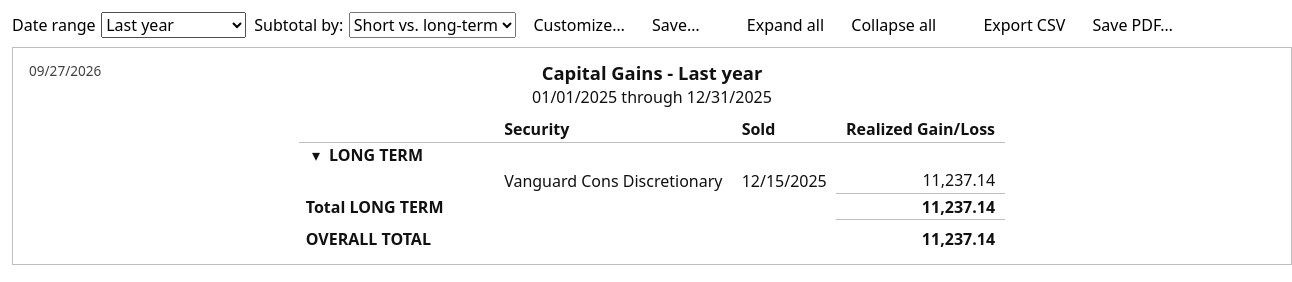
it: Report window › collapses a group to one line with its total
Click the button named "Collapse LONG TERM" at (316, 155), box [306,144,326,166]
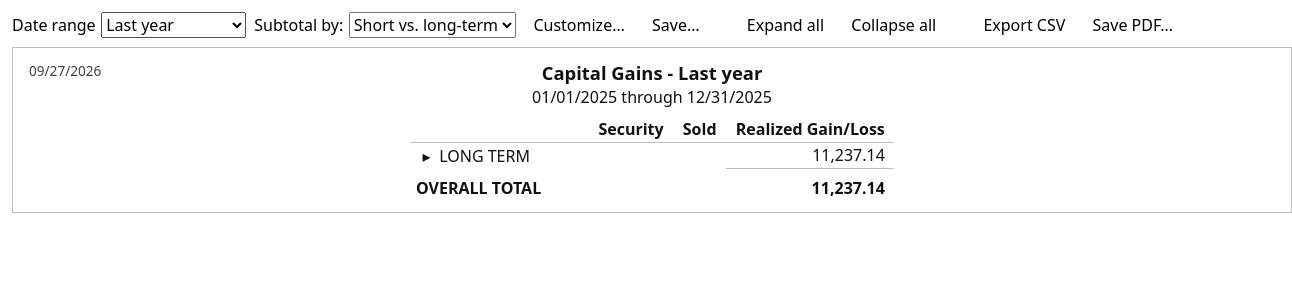
Now the text "Total LONG TERM" is gone
Now the button "Vanguard Cons Discretionary" is gone
Now the text "11,237.14" is shown 2 times, box [726,142,894,168]; [726,168,894,200]
Click the button "Expand all" at (785, 25), box [737,12,834,39]
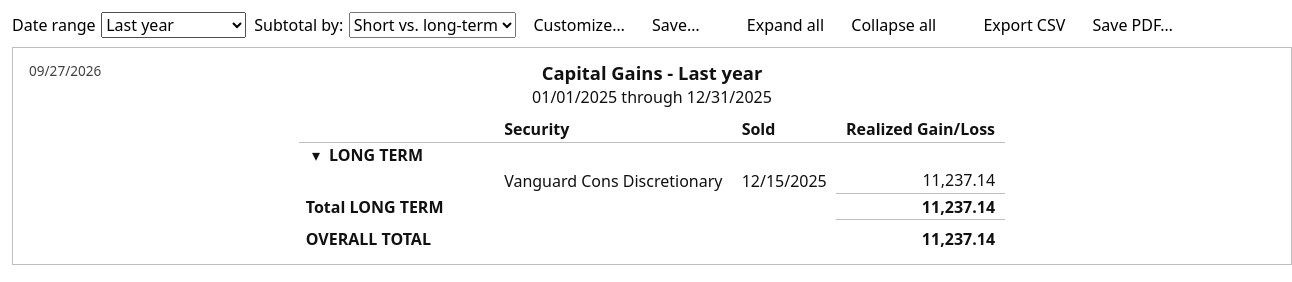
Now the text "Total LONG TERM" is shown, box [299,193,494,220]
